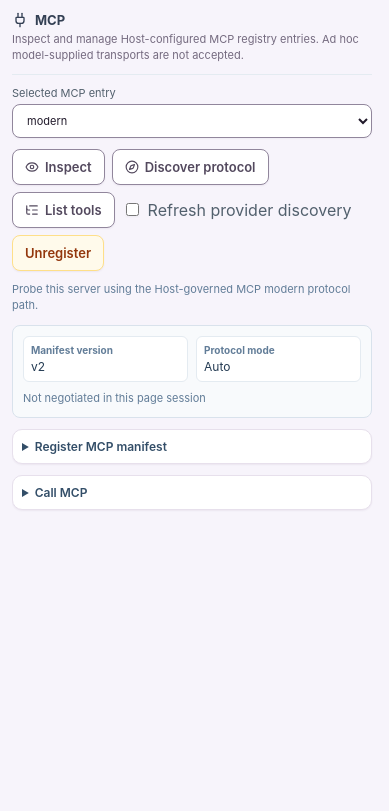
RemoteRegistryPanel MCP v2 › shows discovery failures as recoverable alerts and clears stale connection state
Click the button "Discover protocol".
click(190, 167)  # box [112, 149, 269, 185]
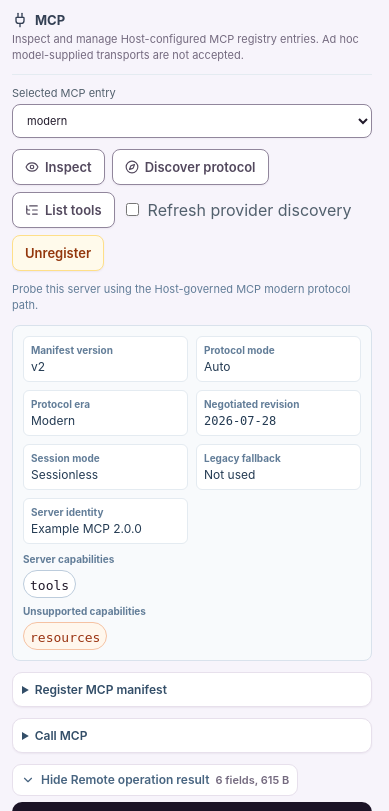
expect the text "2026-07-28" is shown: met, box [204, 414, 276, 428]
Click the button "Discover protocol".
click(190, 167)  # box [112, 149, 269, 185]
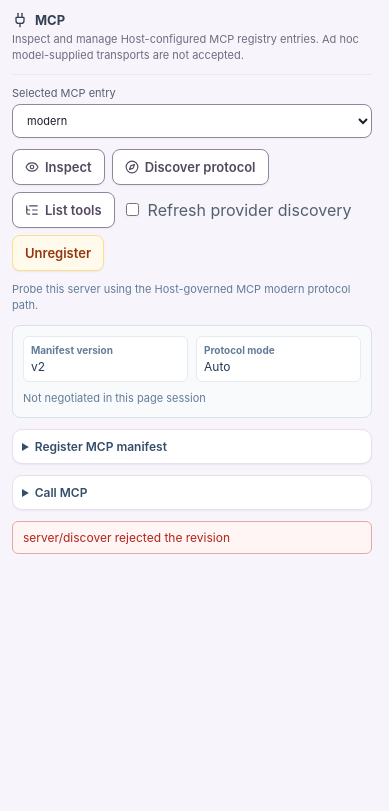
expect the message "server/discover rejected the revision" is shown: met, box [12, 521, 372, 554]
expect the text "Not negotiated in this page session" is shown: met, box [23, 391, 206, 405]
